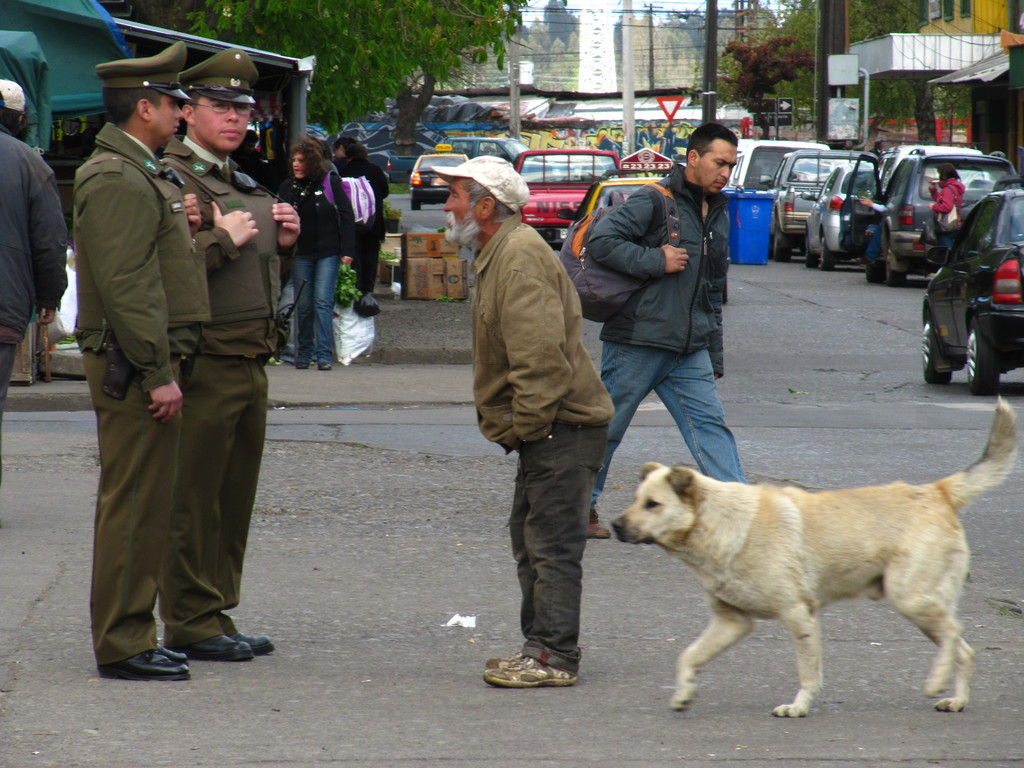Person: (430, 154, 615, 687), (72, 39, 210, 679), (160, 47, 301, 659), (586, 122, 743, 534), (0, 78, 67, 483), (276, 143, 354, 370), (335, 140, 390, 292), (927, 161, 965, 246), (859, 196, 886, 261)
